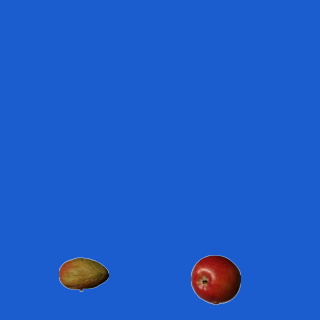Apple Braeburn: (190, 254, 240, 304)
Papaya: (58, 249, 108, 299)
